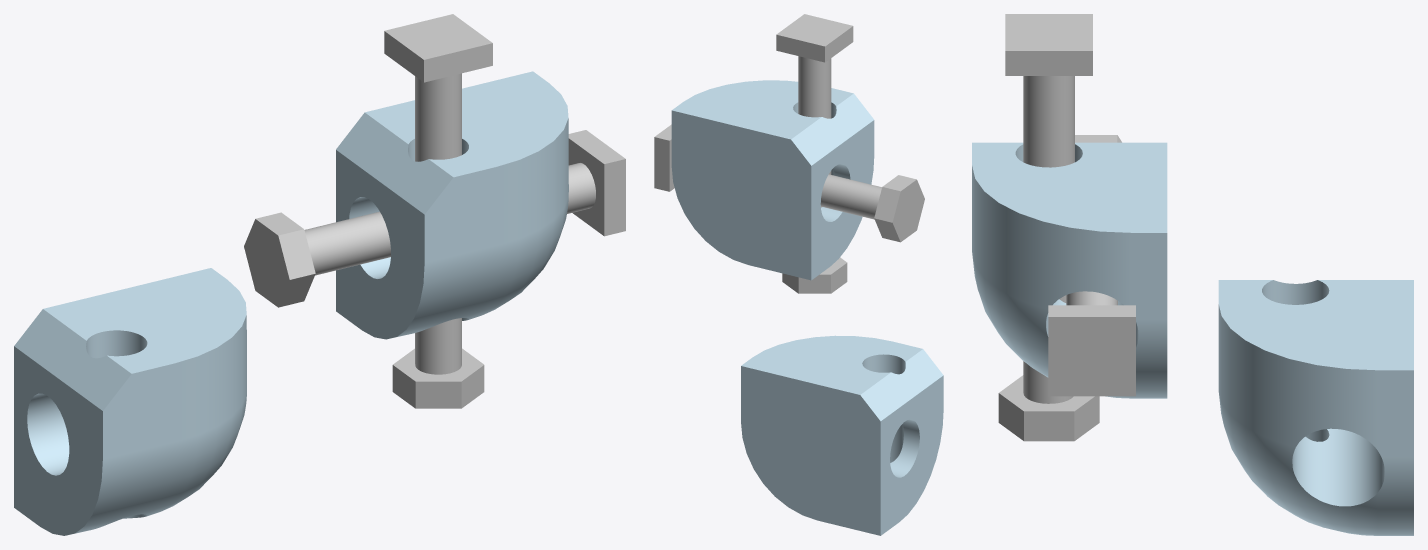
The model's file is Assembly01.gltf.
3 renders of one model, left to right at view 1: azimuth 30°, elevation 25°; view 2: azimuth 150°, elevation 25°; view 3: azimuth 270°, elevation 25°, orthographic. The views are drawn at different scales.
Parts seen in each view (by area): view 1: mesh5_meshnode_5 (×2), mesh0_meshnode_0 (×2), mesh8_meshnode_8 (×2), mesh13_meshnode_13 (×2), mesh3_meshnode_3 (×2), mesh12_meshnode_12 (×2), mesh9_meshnode_9 (×2), mesh10_meshnode_10 (×2), mesh7_meshnode_7 (×2), mesh16_meshnode_16 (×2), mesh18_meshnode_18, mesh23_meshnode_23 (×2) (+5 smaller); view 2: mesh1_meshnode_1 (×2), mesh5_meshnode_5 (×2), mesh0_meshnode_0 (×2), mesh12_meshnode_12 (×2), mesh13_meshnode_13 (×2), mesh14_meshnode_14 (×2), mesh7_meshnode_7 (×2), mesh18_meshnode_18, mesh26_meshnode_26, mesh25_meshnode_25 (×2), mesh6_meshnode_6, mesh15_meshnode_15 (+1 smaller); view 3: mesh5_meshnode_5 (×2), mesh8_meshnode_8 (×2), mesh18_meshnode_18 (×2), mesh10_meshnode_10 (×2), mesh13_meshnode_13 (×2), mesh2_meshnode_2 (×2), mesh7_meshnode_7, mesh11_meshnode_11 (×2), mesh17_meshnode_17, mesh21_meshnode_21, mesh6_meshnode_6, mesh27_meshnode_27 (+3 smaller).
Part boxes in pixels (<box>): mesh5_meshnode_5 (×2): <box>43,71,568,373</box>; mesh0_meshnode_0 (×2): <box>14,150,424,535</box>; mesh8_meshnode_8 (×2): <box>174,118,568,441</box>; mesh13_meshnode_13 (×2): <box>304,73,595,374</box>; mesh3_meshnode_3 (×2): <box>103,167,496,459</box>; mesh12_meshnode_12 (×2): <box>14,112,453,410</box>; mesh9_meshnode_9 (×2): <box>72,246,496,534</box>; mesh10_meshnode_10 (×2): <box>147,197,568,516</box>; mesh7_meshnode_7 (×2): <box>27,197,390,475</box>; mesh16_meshnode_16 (×2): <box>424,43,625,236</box>; mesh18_meshnode_18: <box>384,14,492,59</box>; mesh23_meshnode_23 (×2): <box>278,229,461,408</box>; mesh1_meshnode_1 (×2): <box>671,110,880,535</box>; mesh5_meshnode_5 (×2): <box>672,80,922,394</box>; mesh0_meshnode_0 (×2): <box>811,120,943,535</box>; mesh12_meshnode_12 (×2): <box>791,93,943,421</box>; mesh13_meshnode_13 (×2): <box>798,56,881,219</box>; mesh14_meshnode_14 (×2): <box>654,34,824,191</box>; mesh7_meshnode_7 (×2): <box>821,164,919,477</box>; mesh18_meshnode_18: <box>777,14,852,46</box>; mesh26_meshnode_26: <box>892,179,924,241</box>; mesh25_meshnode_25 (×2): <box>798,187,900,293</box>; mesh6_meshnode_6: <box>862,354,905,462</box>; mesh15_meshnode_15: <box>825,26,853,62</box>; mesh5_meshnode_5 (×2): <box>972,142,1413,370</box>; mesh8_meshnode_8 (×2): <box>972,166,1377,449</box>; mesh18_meshnode_18 (×2): <box>1005,14,1135,396</box>; mesh10_meshnode_10 (×2): <box>972,254,1377,535</box>; mesh13_meshnode_13 (×2): <box>1023,76,1117,403</box>; mesh2_meshnode_2 (×2): <box>1131,233,1413,456</box>; mesh7_meshnode_7: <box>1292,428,1384,506</box>; mesh11_meshnode_11 (×2): <box>1131,319,1413,535</box>; mesh17_meshnode_17: <box>1005,51,1092,75</box>; mesh21_meshnode_21: <box>1024,411,1074,441</box>; mesh6_meshnode_6: <box>1262,280,1329,441</box>; mesh27_meshnode_27: <box>999,375,1094,411</box>.
Bounding box in the file's own units: 0.0784 × 0.089 × 0.0612.
